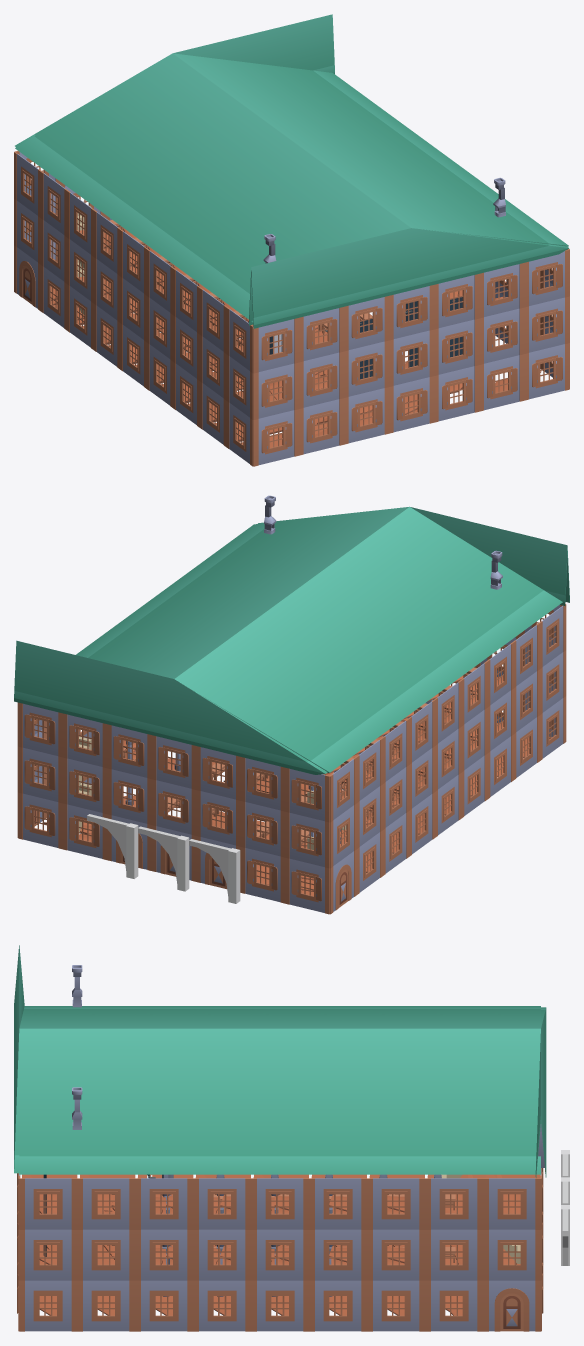
The model's file is london_bld_opera.glb.
3 renders of one model, top to bottom at view 1: azimuth 30°, elevation 25°; view 2: azimuth 150°, elevation 25°; view 3: azimuth 270°, elevation 25°, orthographic. The views are drawn at different scales.
Parts seen in each view (by area): view 1: wall-window-shutters (×47), roof-gable (×9), roof-gable-end (×2), wall-door, Curtains_Double, platform-planks; view 2: roof-gable (×9), wall-window-shutters (×44), roof-gable-end (×2), Grey_Arch_01 (×3), wall-door (×4); view 3: roof-gable (×9), wall-window-shutters (×26), platform-planks (×10), roof-gable-end (×2), wall-door, door, Grey_Arch_01.
Part boxes in pixels (x1=…): wall-window-shutters (×47): x1=14, y1=152, x2=569, y2=466; roof-gable (×9): x1=15, y1=53, x2=568, y2=322; roof-gable-end (×2): x1=15, y1=14, x2=569, y2=328; wall-door: x1=14, y1=245, x2=40, y2=310; Curtains_Double: x1=324, y1=297, x2=462, y2=379; platform-planks: x1=242, y1=371, x2=541, y2=447; roof-gable (×9): x1=76, y1=507, x2=562, y2=772; wall-window-shutters (×44): x1=18, y1=604, x2=566, y2=914; roof-gable-end (×2): x1=14, y1=507, x2=569, y2=774; Grey_Arch_01 (×3): x1=87, y1=814, x2=240, y2=903; wall-door (×4): x1=107, y1=814, x2=356, y2=914; roof-gable (×9): x1=19, y1=1006, x2=540, y2=1174; wall-window-shutters (×26): x1=19, y1=1178, x2=540, y2=1331; platform-planks (×10): x1=22, y1=1174, x2=539, y2=1315; roof-gable-end (×2): x1=14, y1=945, x2=546, y2=1177; wall-door: x1=483, y1=1280, x2=540, y2=1331; door: x1=500, y1=1293, x2=523, y2=1331; Grey_Arch_01: x1=561, y1=1205, x2=569, y2=1265.
Size of the model in its own units: 22.3 by 13.33 by 30.69.
18 materials, 11 textured.
